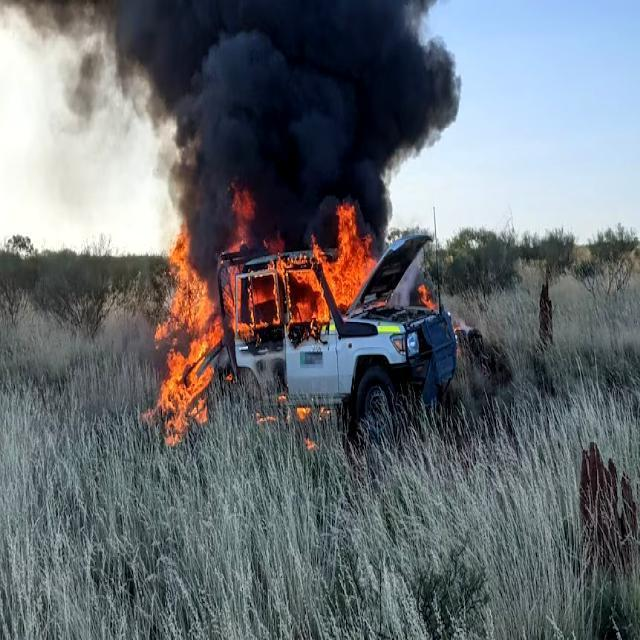Fire: (239, 198, 381, 336), (158, 241, 238, 444)
Smoke: (10, 0, 466, 238)
